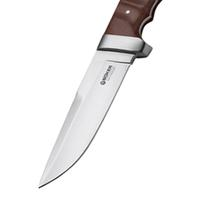knife: (37, 1, 155, 195)
